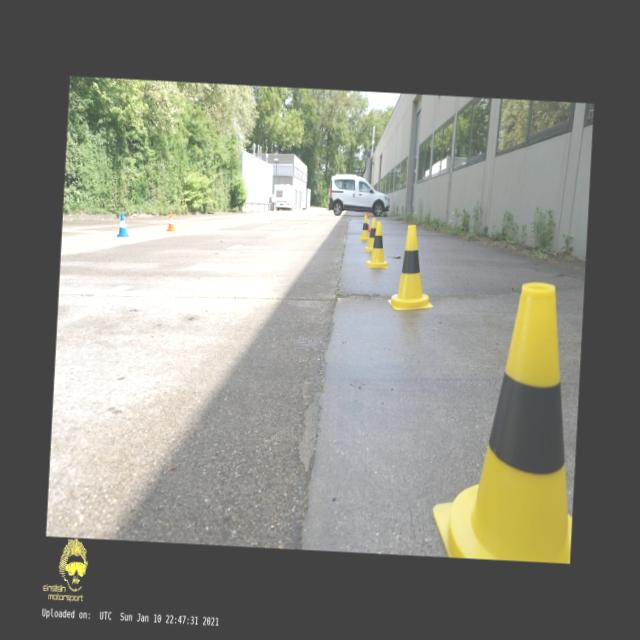blue_cone: (117, 214, 130, 237)
orange_cone: (166, 212, 176, 232), (366, 212, 372, 232)
yellow_cone: (430, 276, 584, 563), (388, 224, 437, 312), (366, 220, 391, 268), (364, 216, 376, 252), (358, 214, 371, 241)
